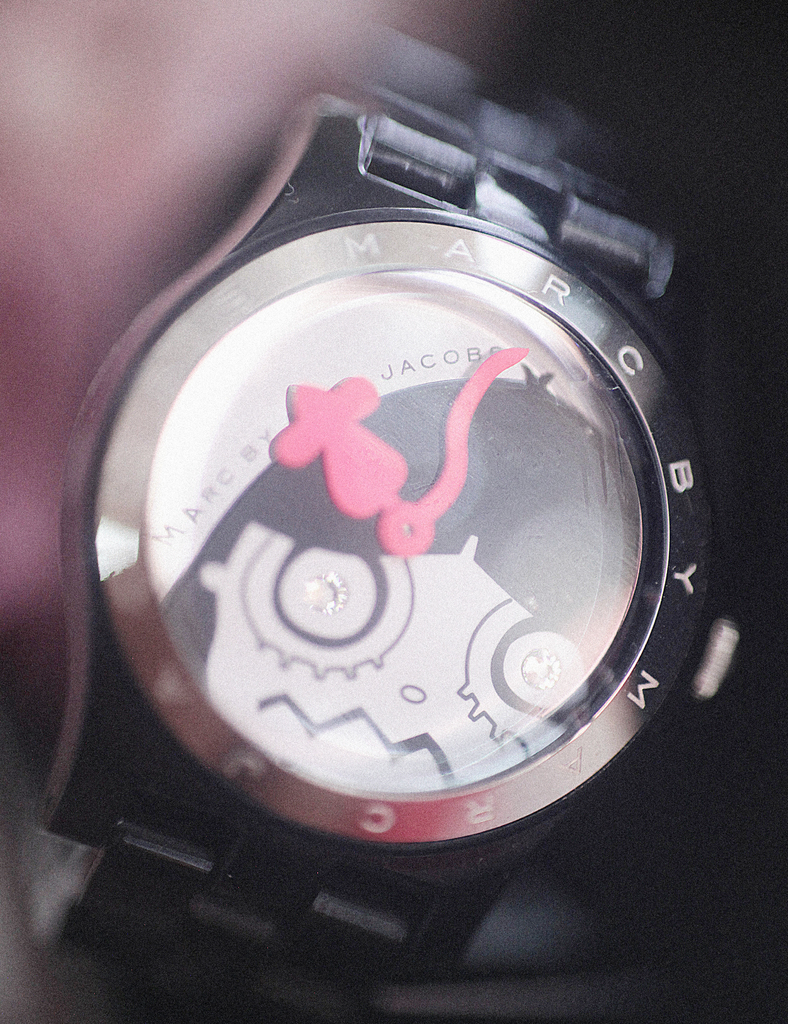watch: (32, 87, 738, 1023)
